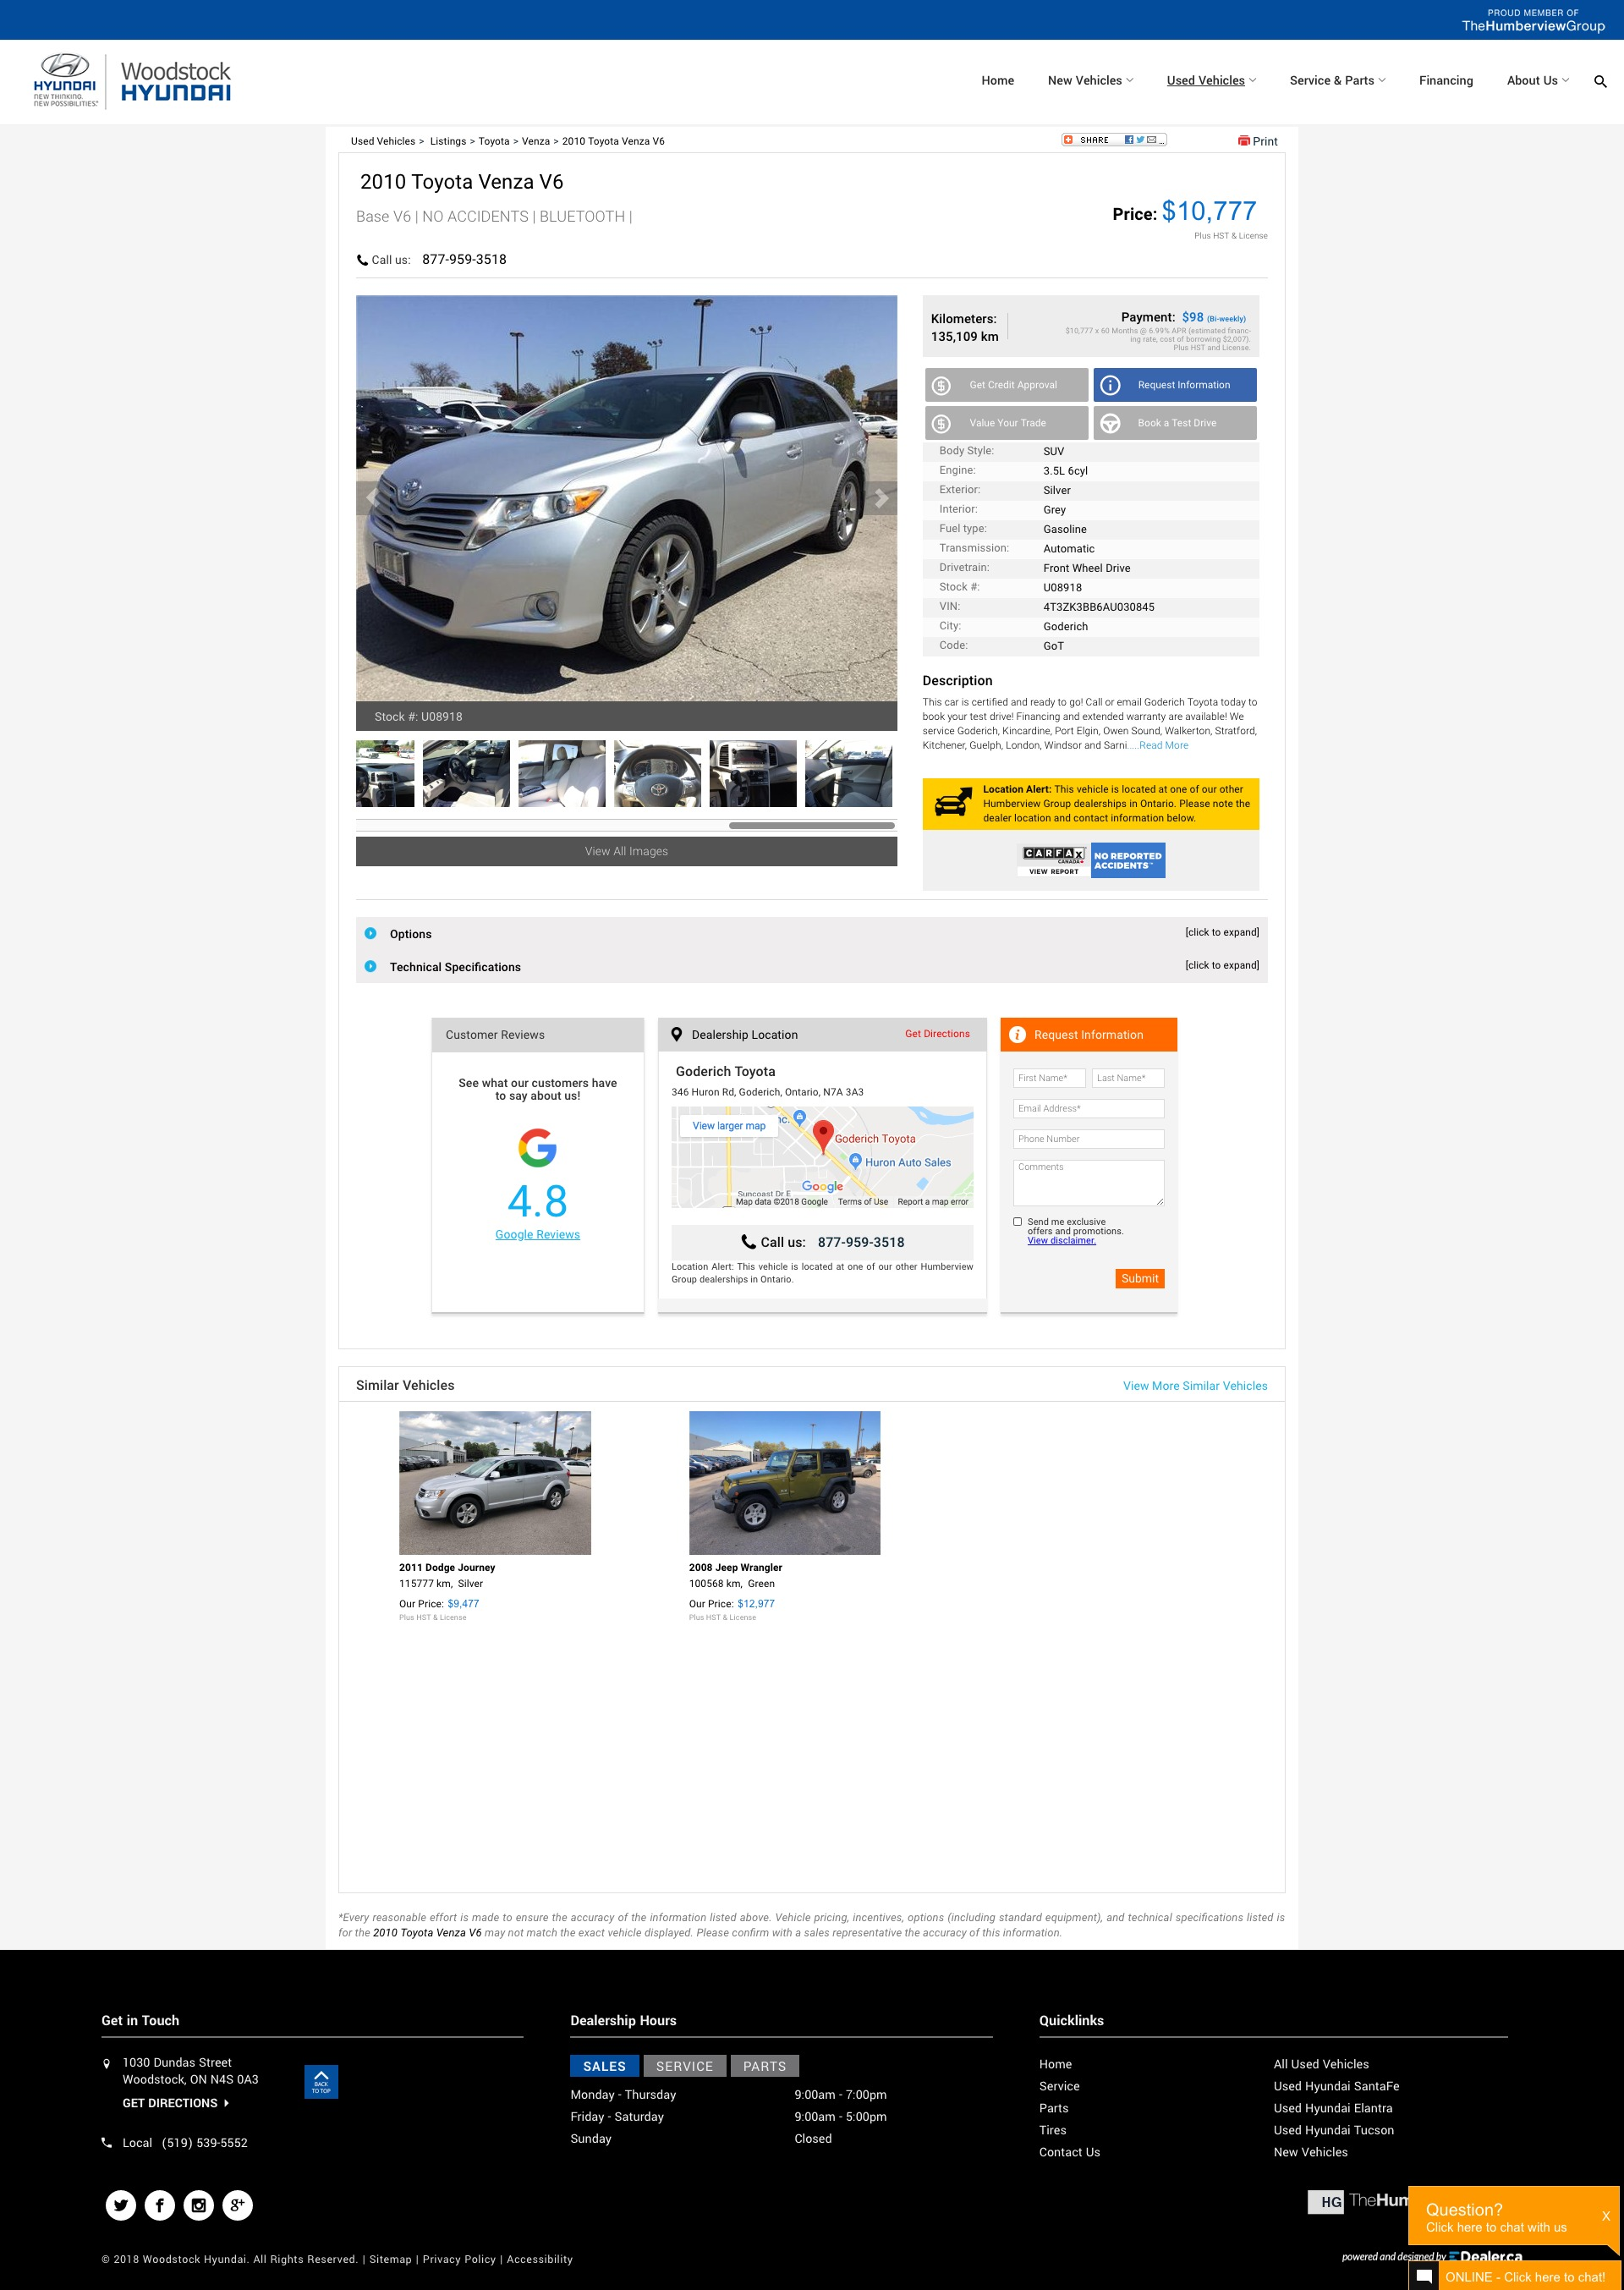car: (863, 480, 900, 518)
